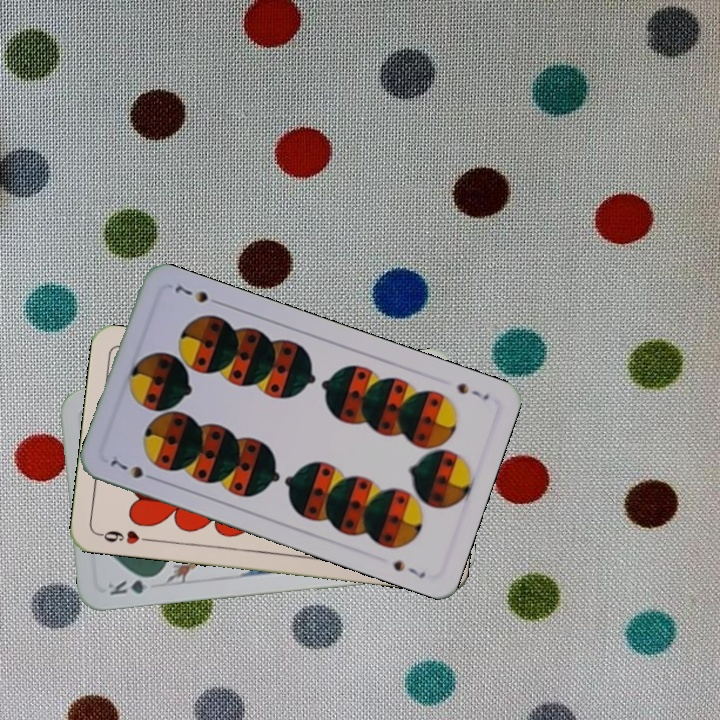GK: (104, 572, 160, 598)
H9: (94, 526, 153, 547)
S7: (106, 455, 160, 484), (453, 379, 492, 403)
